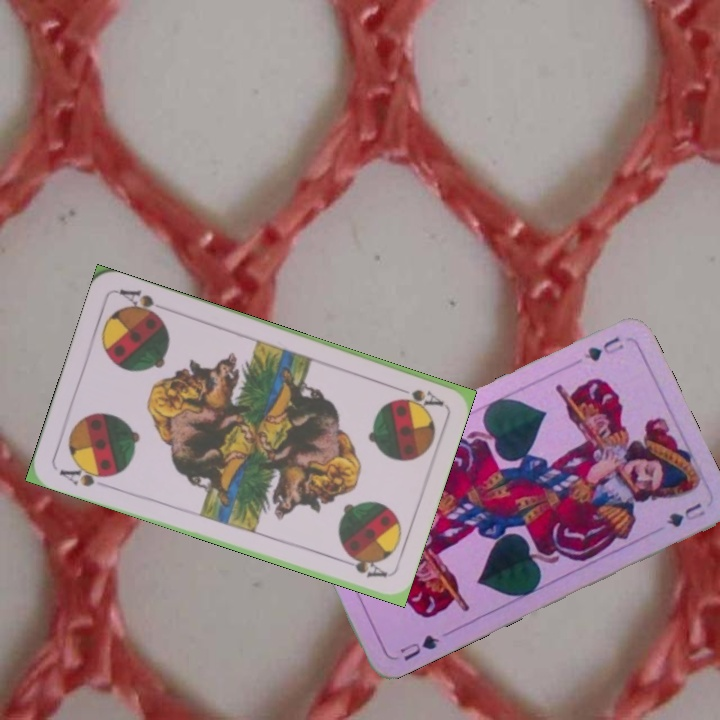GU: (396, 631, 442, 664), (580, 332, 627, 364)
SA: (55, 460, 114, 489), (388, 381, 445, 409)
